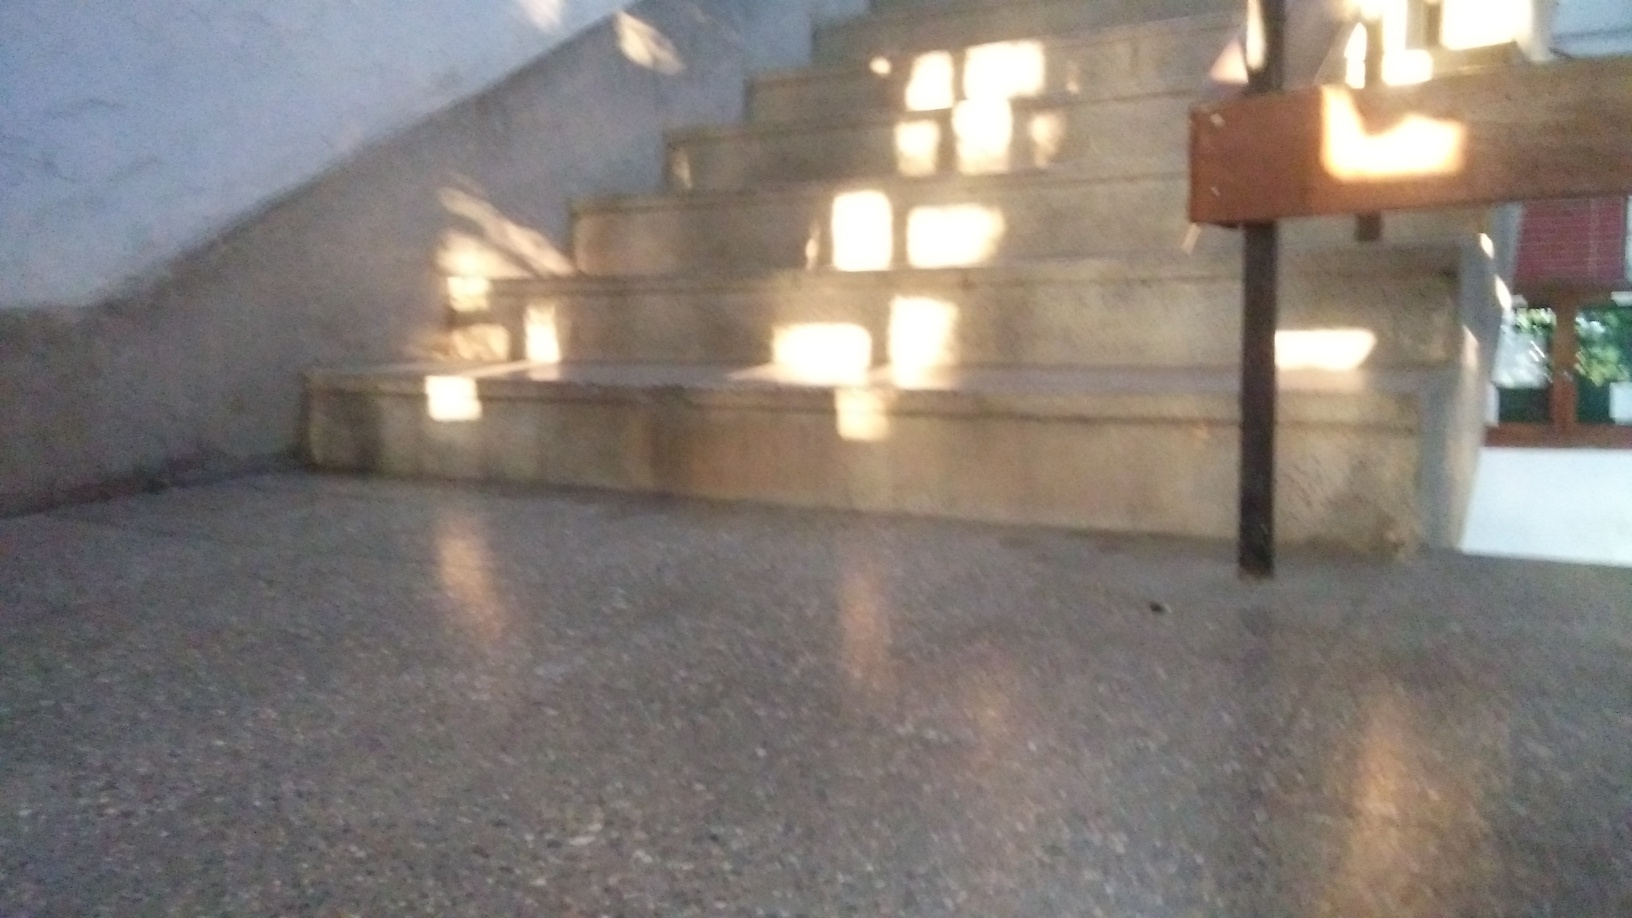stairs_up: (300, 1, 1449, 551)
